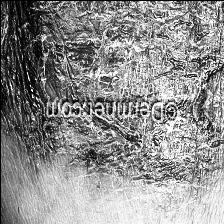Non-Cancerous Skin Condition: (6, 121, 224, 224), (0, 0, 224, 98)
